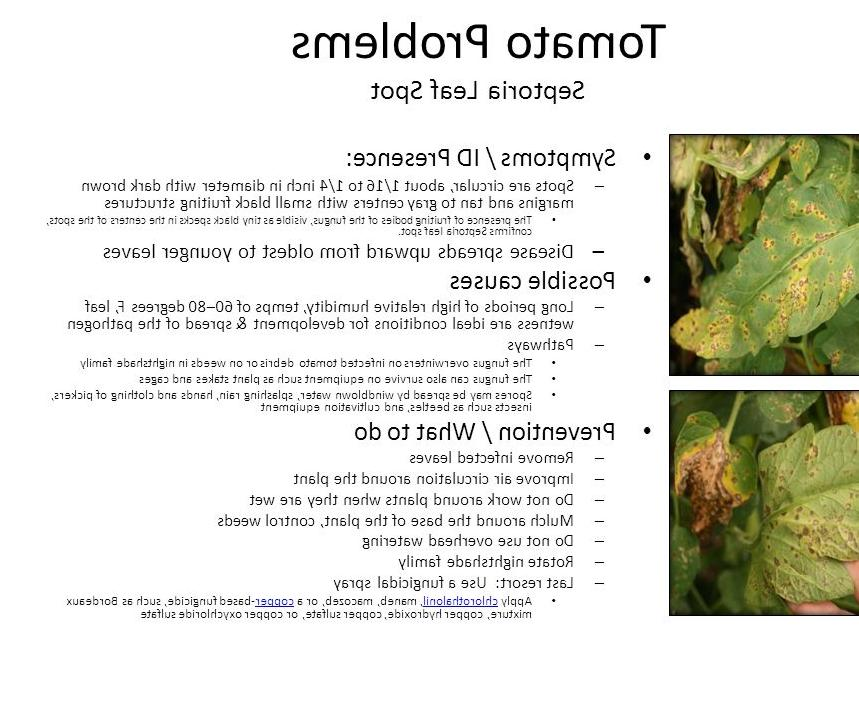Tomato Septoria leaf spot: (672, 177, 859, 361), (752, 422, 859, 604), (674, 401, 768, 543)
